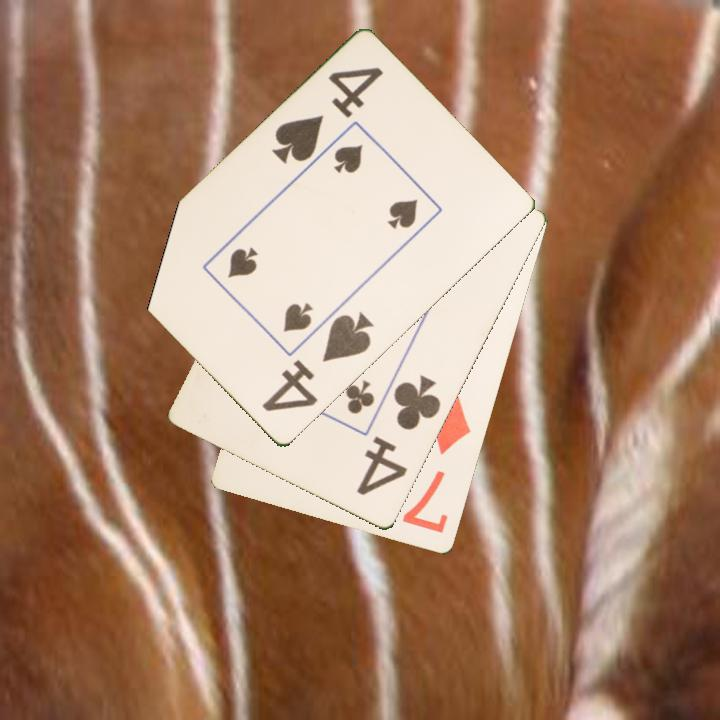4c: (353, 372, 444, 499)
4s: (258, 309, 377, 416), (268, 64, 386, 168)
7d: (399, 393, 475, 537)
